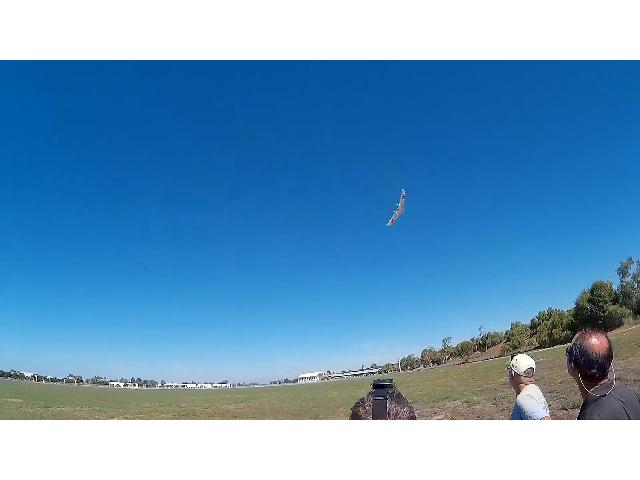Anti-Drone: (386, 189, 404, 225)
